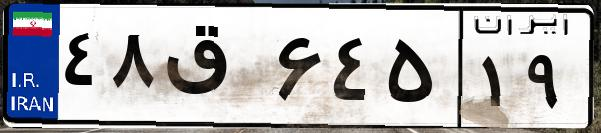1: (475, 38, 525, 113)
4: (330, 28, 385, 110), (57, 26, 110, 100)
5: (385, 28, 445, 110)
6: (270, 28, 330, 110)
8: (110, 28, 158, 98)
9: (525, 38, 570, 115)
ق: (158, 20, 270, 120)
